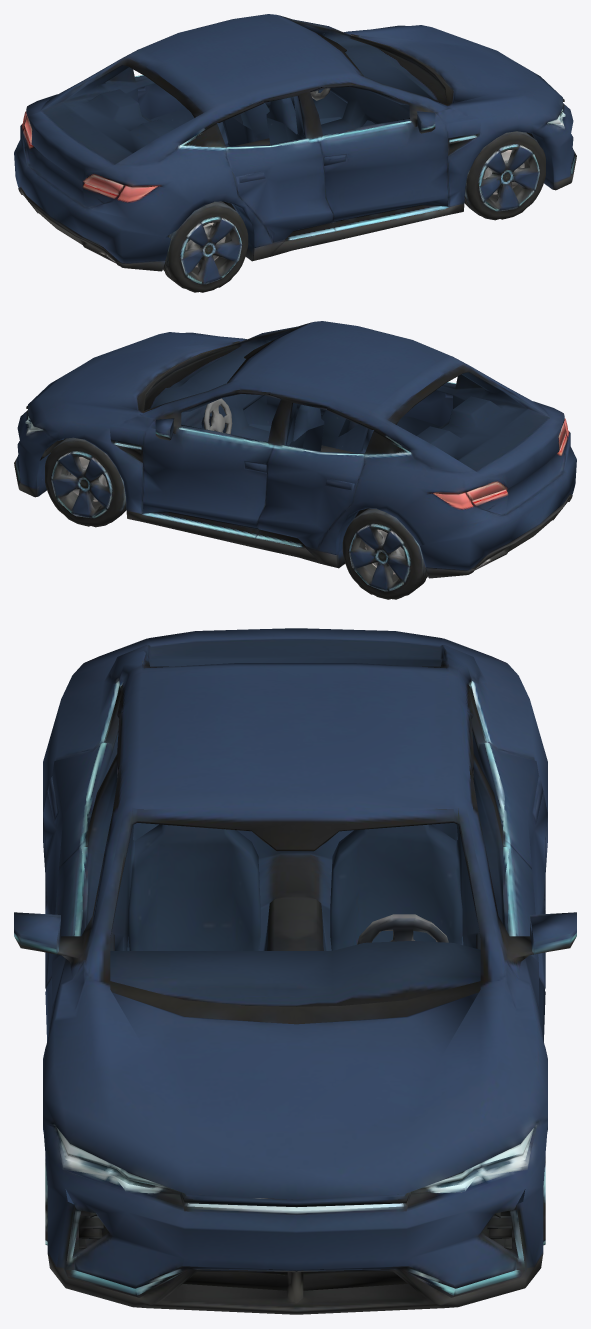
The model's file is sedan.glb.
3 views of the same model, one above another, from view 1: azimuth 30°, elevation 25°; view 2: azimuth 150°, elevation 25°; view 3: azimuth 270°, elevation 25° (orthographic). The views are drawn at different scales.
Visible parts, largest first — view 1: tripo_node_a70d3090-58f0-4a18-bd74-81866c2e0572; view 2: tripo_node_a70d3090-58f0-4a18-bd74-81866c2e0572; view 3: tripo_node_a70d3090-58f0-4a18-bd74-81866c2e0572.
Boxes of the visible parts, left/top/right/bottom form: tripo_node_a70d3090-58f0-4a18-bd74-81866c2e0572: left=14, top=14, right=576, bottom=292; tripo_node_a70d3090-58f0-4a18-bd74-81866c2e0572: left=14, top=321, right=576, bottom=599; tripo_node_a70d3090-58f0-4a18-bd74-81866c2e0572: left=14, top=628, right=576, bottom=1314.
Size of the model in its own units: 0.9807 by 0.3263 by 0.4817.
1 material, 1 textured.
